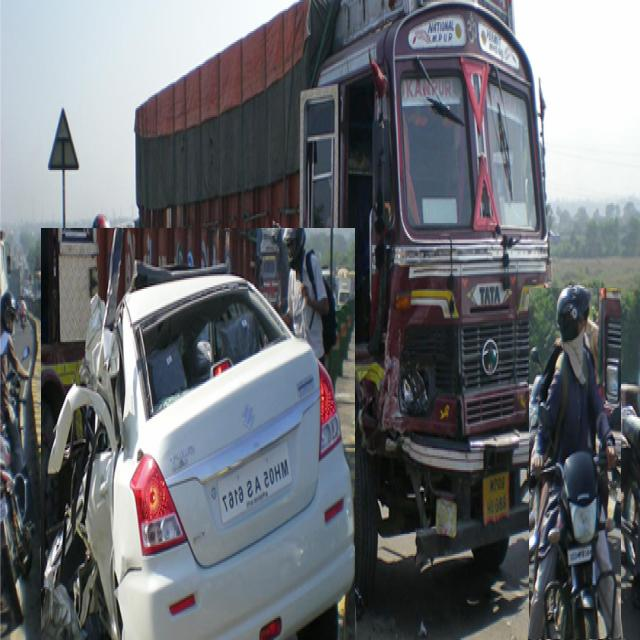accident: (136, 0, 551, 600), (41, 228, 355, 640)
motorcycle: (529, 288, 621, 639)
